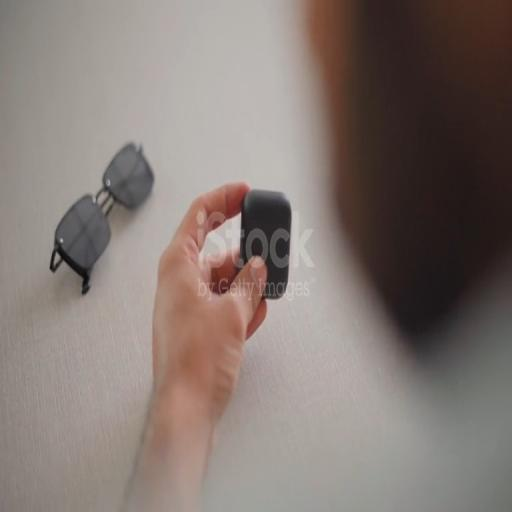earphone: (234, 190, 300, 311)
